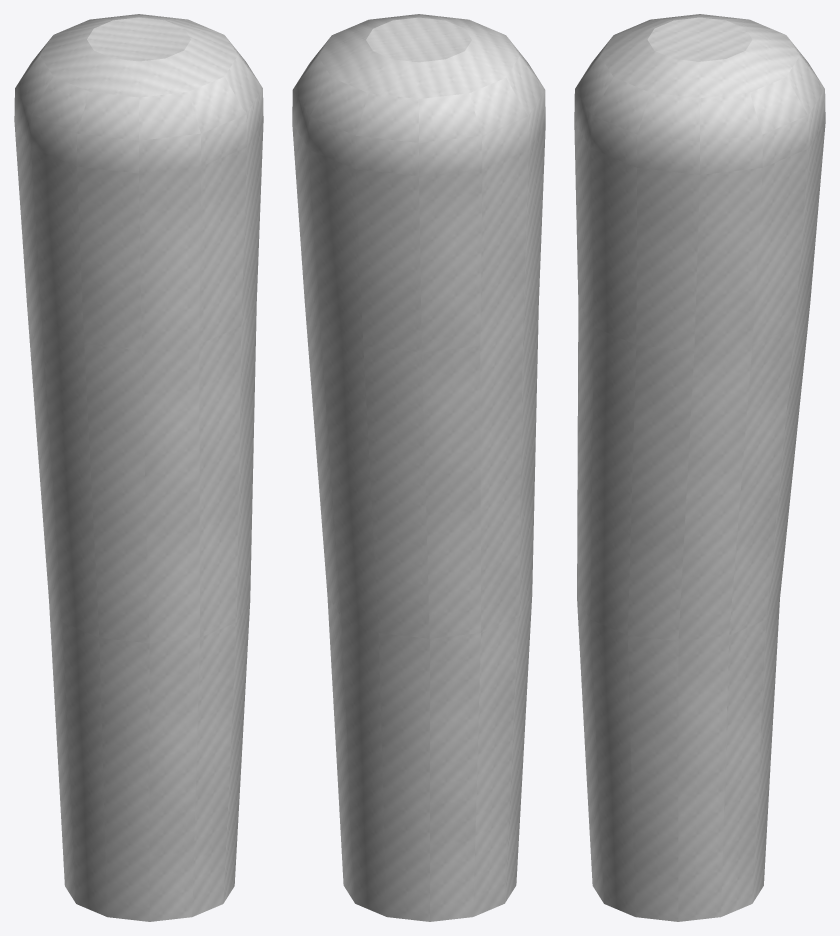
File: shirt_tunic_sleeve_l.glb
The picture shows the model from 3 angles, left to right: view 1: azimuth 30°, elevation 25°; view 2: azimuth 150°, elevation 25°; view 3: azimuth 270°, elevation 25°; orthographic projection.
Parts seen in each view (by area): view 1: shirt_tunic_sleeve_l; view 2: shirt_tunic_sleeve_l; view 3: shirt_tunic_sleeve_l.
Part boxes in pixels (box(x1,y1,x2,y2)): shirt_tunic_sleeve_l: box(14, 14, 263, 921); shirt_tunic_sleeve_l: box(292, 14, 545, 921); shirt_tunic_sleeve_l: box(574, 14, 825, 921).
Size of the model in its own units: 0.1387 by 0.515 by 0.1387.
1 material, 1 textured.
